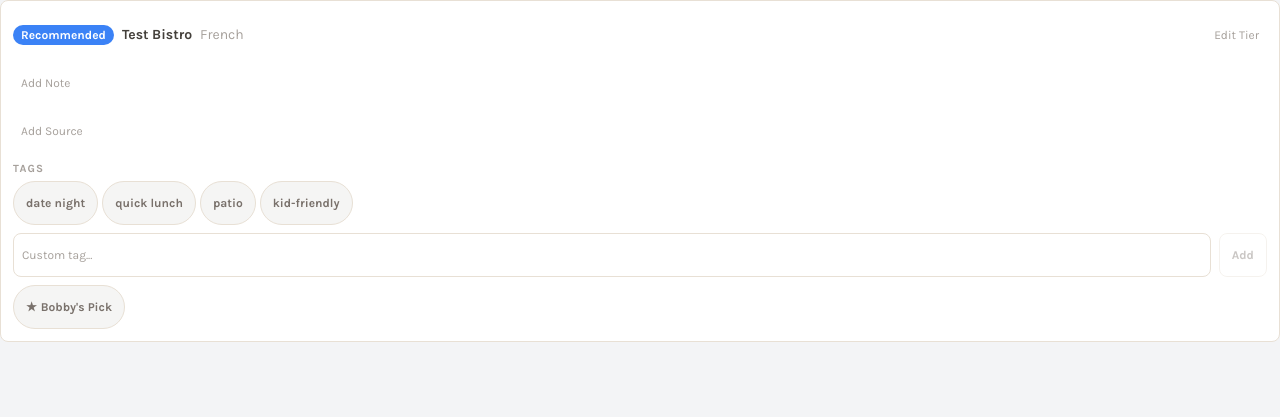
Scenario: SessionRestaurantCard — Add Source flow (AC 5, 6, 7, 16) › clicking "Add Source" opens source input (empty) and disabled "Save" button
Click the button with aria-label "add source for test bistro".
click(52, 131)  # box [13,109,91,153]
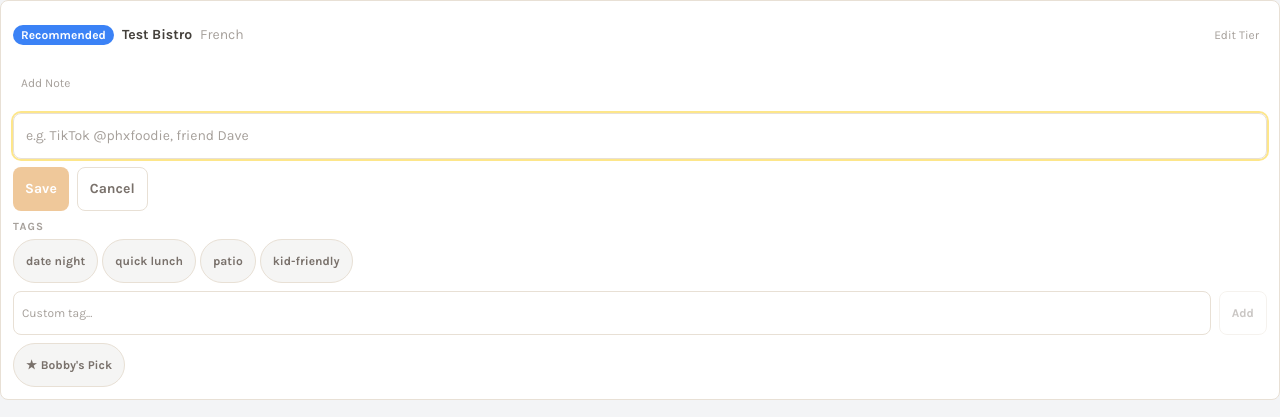
Result: the field with test id "source-input" is empty at [13,113,1267,159]
Result: the button with test id "save-source-btn" is disabled at [13,167,69,211]
